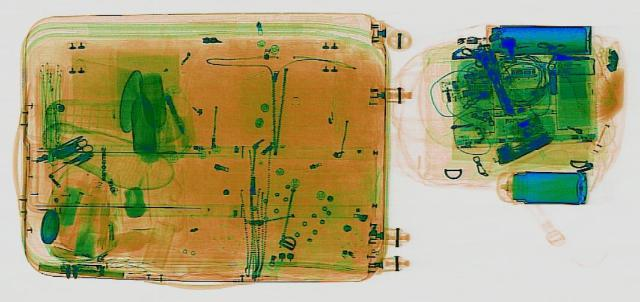Scissors: (46, 136, 102, 160)
